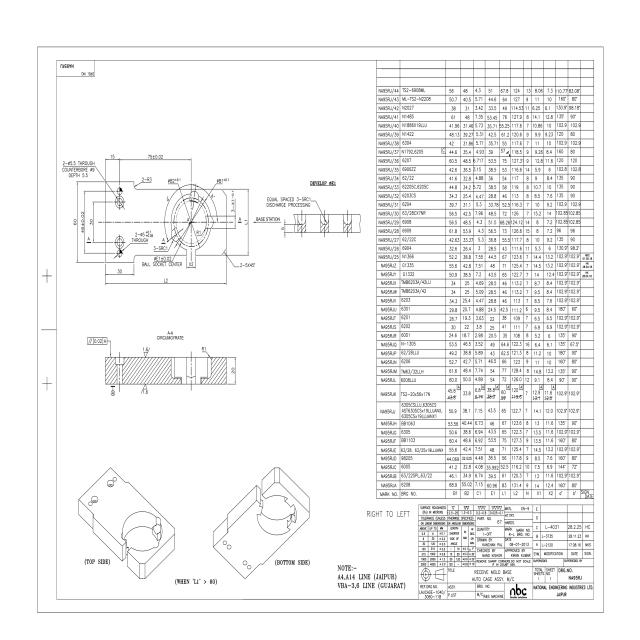dimension: (62, 159, 125, 211), (193, 175, 230, 219), (165, 183, 214, 216), (112, 229, 154, 260), (235, 187, 252, 257), (118, 152, 193, 166), (218, 249, 256, 270), (101, 268, 137, 289), (219, 188, 237, 230), (273, 215, 296, 240), (79, 190, 88, 253), (85, 199, 97, 244), (166, 176, 186, 202), (223, 355, 238, 386), (72, 190, 78, 253), (132, 174, 154, 188), (147, 255, 180, 262), (105, 152, 124, 164), (141, 344, 151, 362), (140, 382, 150, 399), (198, 344, 210, 358), (107, 384, 119, 398), (188, 259, 195, 269), (194, 229, 202, 237)
